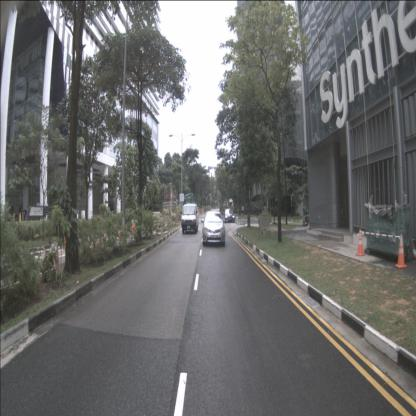barrier: (131, 223, 138, 234)
cone: (395, 234, 407, 268), (355, 227, 365, 256), (54, 243, 61, 268)
